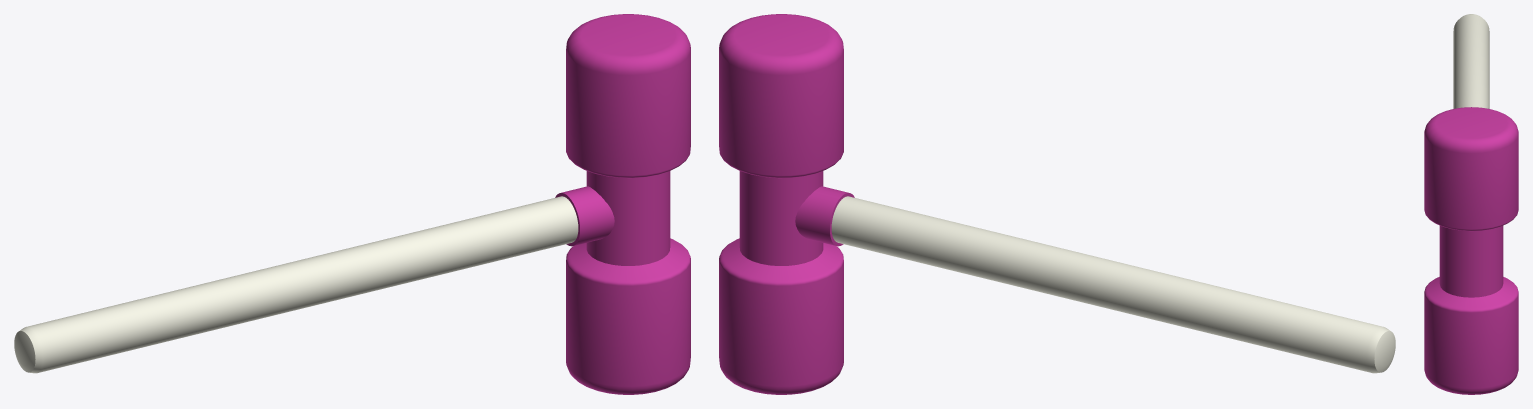
Rendered from Hammer.fbx.
The picture shows the model from 3 angles, left to right: view 1: azimuth 30°, elevation 25°; view 2: azimuth 150°, elevation 25°; view 3: azimuth 270°, elevation 25°; orthographic projection. The views are drawn at different scales.
Visible parts, largest first — view 1: Hammer; view 2: Hammer; view 3: Hammer.
Boxes of the visible parts, bbox=[...] form: Hammer: bbox=[14, 14, 690, 394]; Hammer: bbox=[719, 14, 1395, 394]; Hammer: bbox=[1424, 14, 1518, 394].
Size of the model in its own units: 30.64 by 15 by 5.04.
